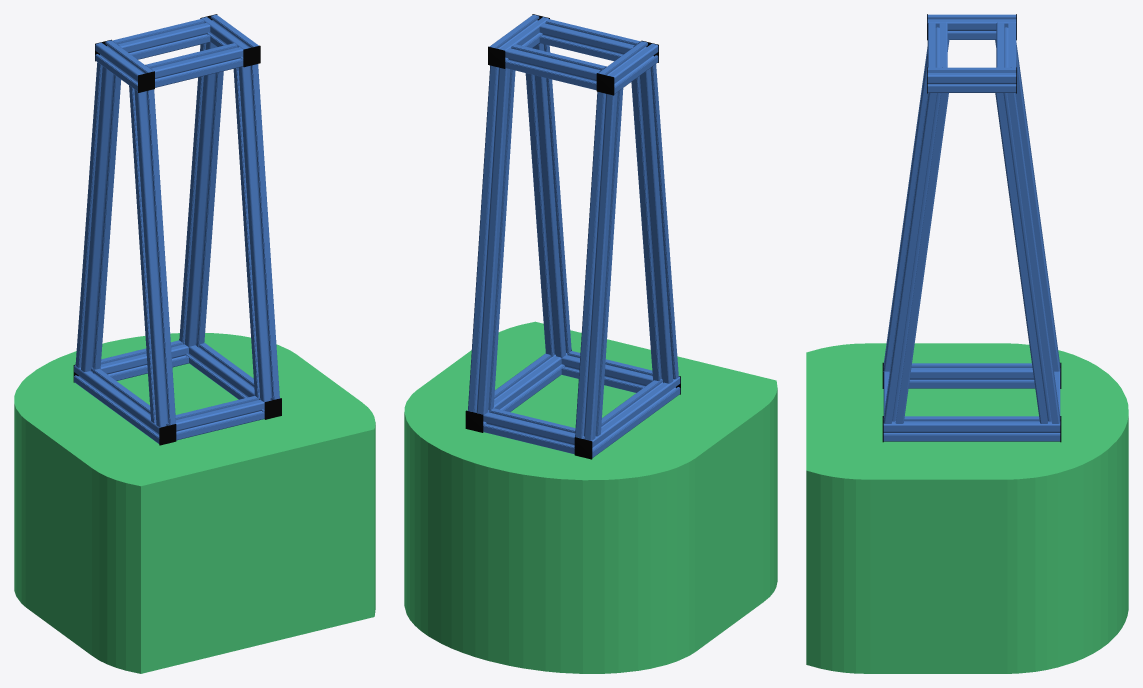
The model's file is mild.dae.
3 views of the same model, side by side, from view 1: azimuth 30°, elevation 25°; view 2: azimuth 150°, elevation 25°; view 3: azimuth 270°, elevation 25° (orthographic). The views are drawn at different scales.
Parts seen in each view (by area): view 1: Cylinder, HintenLinks, HintenRechts, VorneRechts_001, VorneRechts, ProfilLinks, ProfilVorne_002, ProfilHinten, ProfilVorne_001, ProfilRechts, ProfilVorne, ProfilRechtsOben_001 (+1 smaller); view 2: Cylinder, VorneRechts_001, VorneRechts, HintenLinks, HintenRechts, ProfilLinks, ProfilVorne_001, ProfilVorne, ProfilVorne_002, ProfilRechts, ProfilHinten, ProfilRechtsOben_001 (+1 smaller); view 3: Cylinder, HintenRechts, VorneRechts, ProfilRechts, ProfilLinks, VorneRechts_001, ProfilRechtsOben, HintenLinks, ProfilRechtsOben_001, ProfilVorne_001, ProfilVorne_002.
Boxes of the visible parts, box(x1,y1,x2,y2) form: Cylinder: box(14, 333, 375, 673); HintenLinks: box(129, 85, 175, 427); HintenRechts: box(233, 64, 279, 402); VorneRechts_001: box(75, 62, 121, 373); VorneRechts: box(179, 42, 223, 348); ProfilLinks: box(74, 365, 170, 443); ProfilVorne_002: box(145, 43, 243, 87); ProfilHinten: box(175, 396, 264, 440); ProfilVorne_001: box(112, 19, 210, 59); ProfilRechts: box(183, 342, 273, 412); ProfilVorne: box(100, 340, 188, 380); ProfilRechtsOben_001: box(95, 40, 153, 91); Cylinder: box(404, 321, 777, 673); VorneRechts_001: box(575, 88, 623, 440); VorneRechts: box(468, 65, 515, 415); HintenLinks: box(631, 64, 678, 383); HintenRechts: box(525, 43, 571, 358); ProfilLinks: box(578, 376, 680, 457); ProfilVorne_001: box(505, 44, 606, 90); ProfilVorne: box(483, 408, 575, 454); ProfilVorne_002: box(539, 19, 640, 61); ProfilRechts: box(467, 353, 567, 425); ProfilHinten: box(561, 351, 652, 392); ProfilRechtsOben_001: box(598, 41, 658, 93); Cylinder: box(806, 343, 1128, 673); HintenRechts: box(883, 93, 948, 423); VorneRechts: box(995, 93, 1059, 423); ProfilRechts: box(883, 416, 1060, 441); ProfilLinks: box(883, 363, 1060, 388); VorneRechts_001: box(995, 39, 1060, 371); ProfilRechtsOben: box(927, 67, 1016, 92); HintenLinks: box(883, 39, 949, 371); ProfilRechtsOben_001: box(927, 14, 1016, 39); ProfilVorne_001: box(996, 22, 1016, 67); ProfilVorne_002: box(927, 22, 947, 67).
Bounding box in the file's own units: 0.73 × 0.7297 × 1.4.
